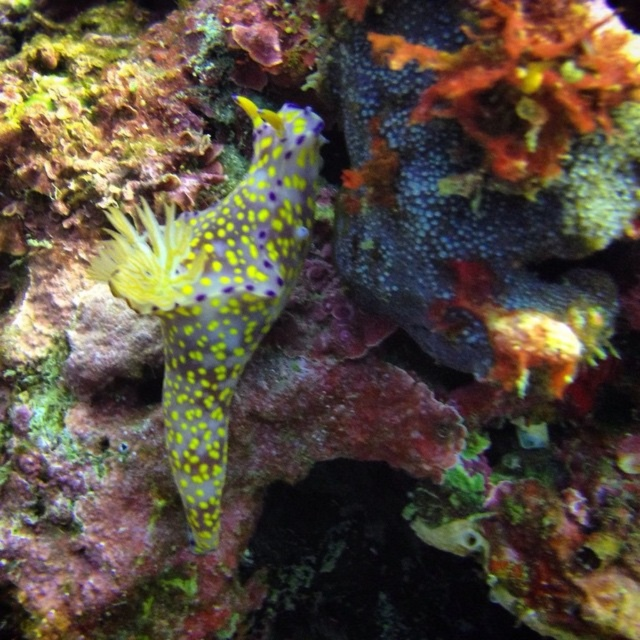Fish: (96, 95, 341, 553)
